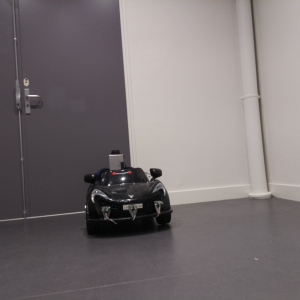big: (81, 166, 176, 234)
